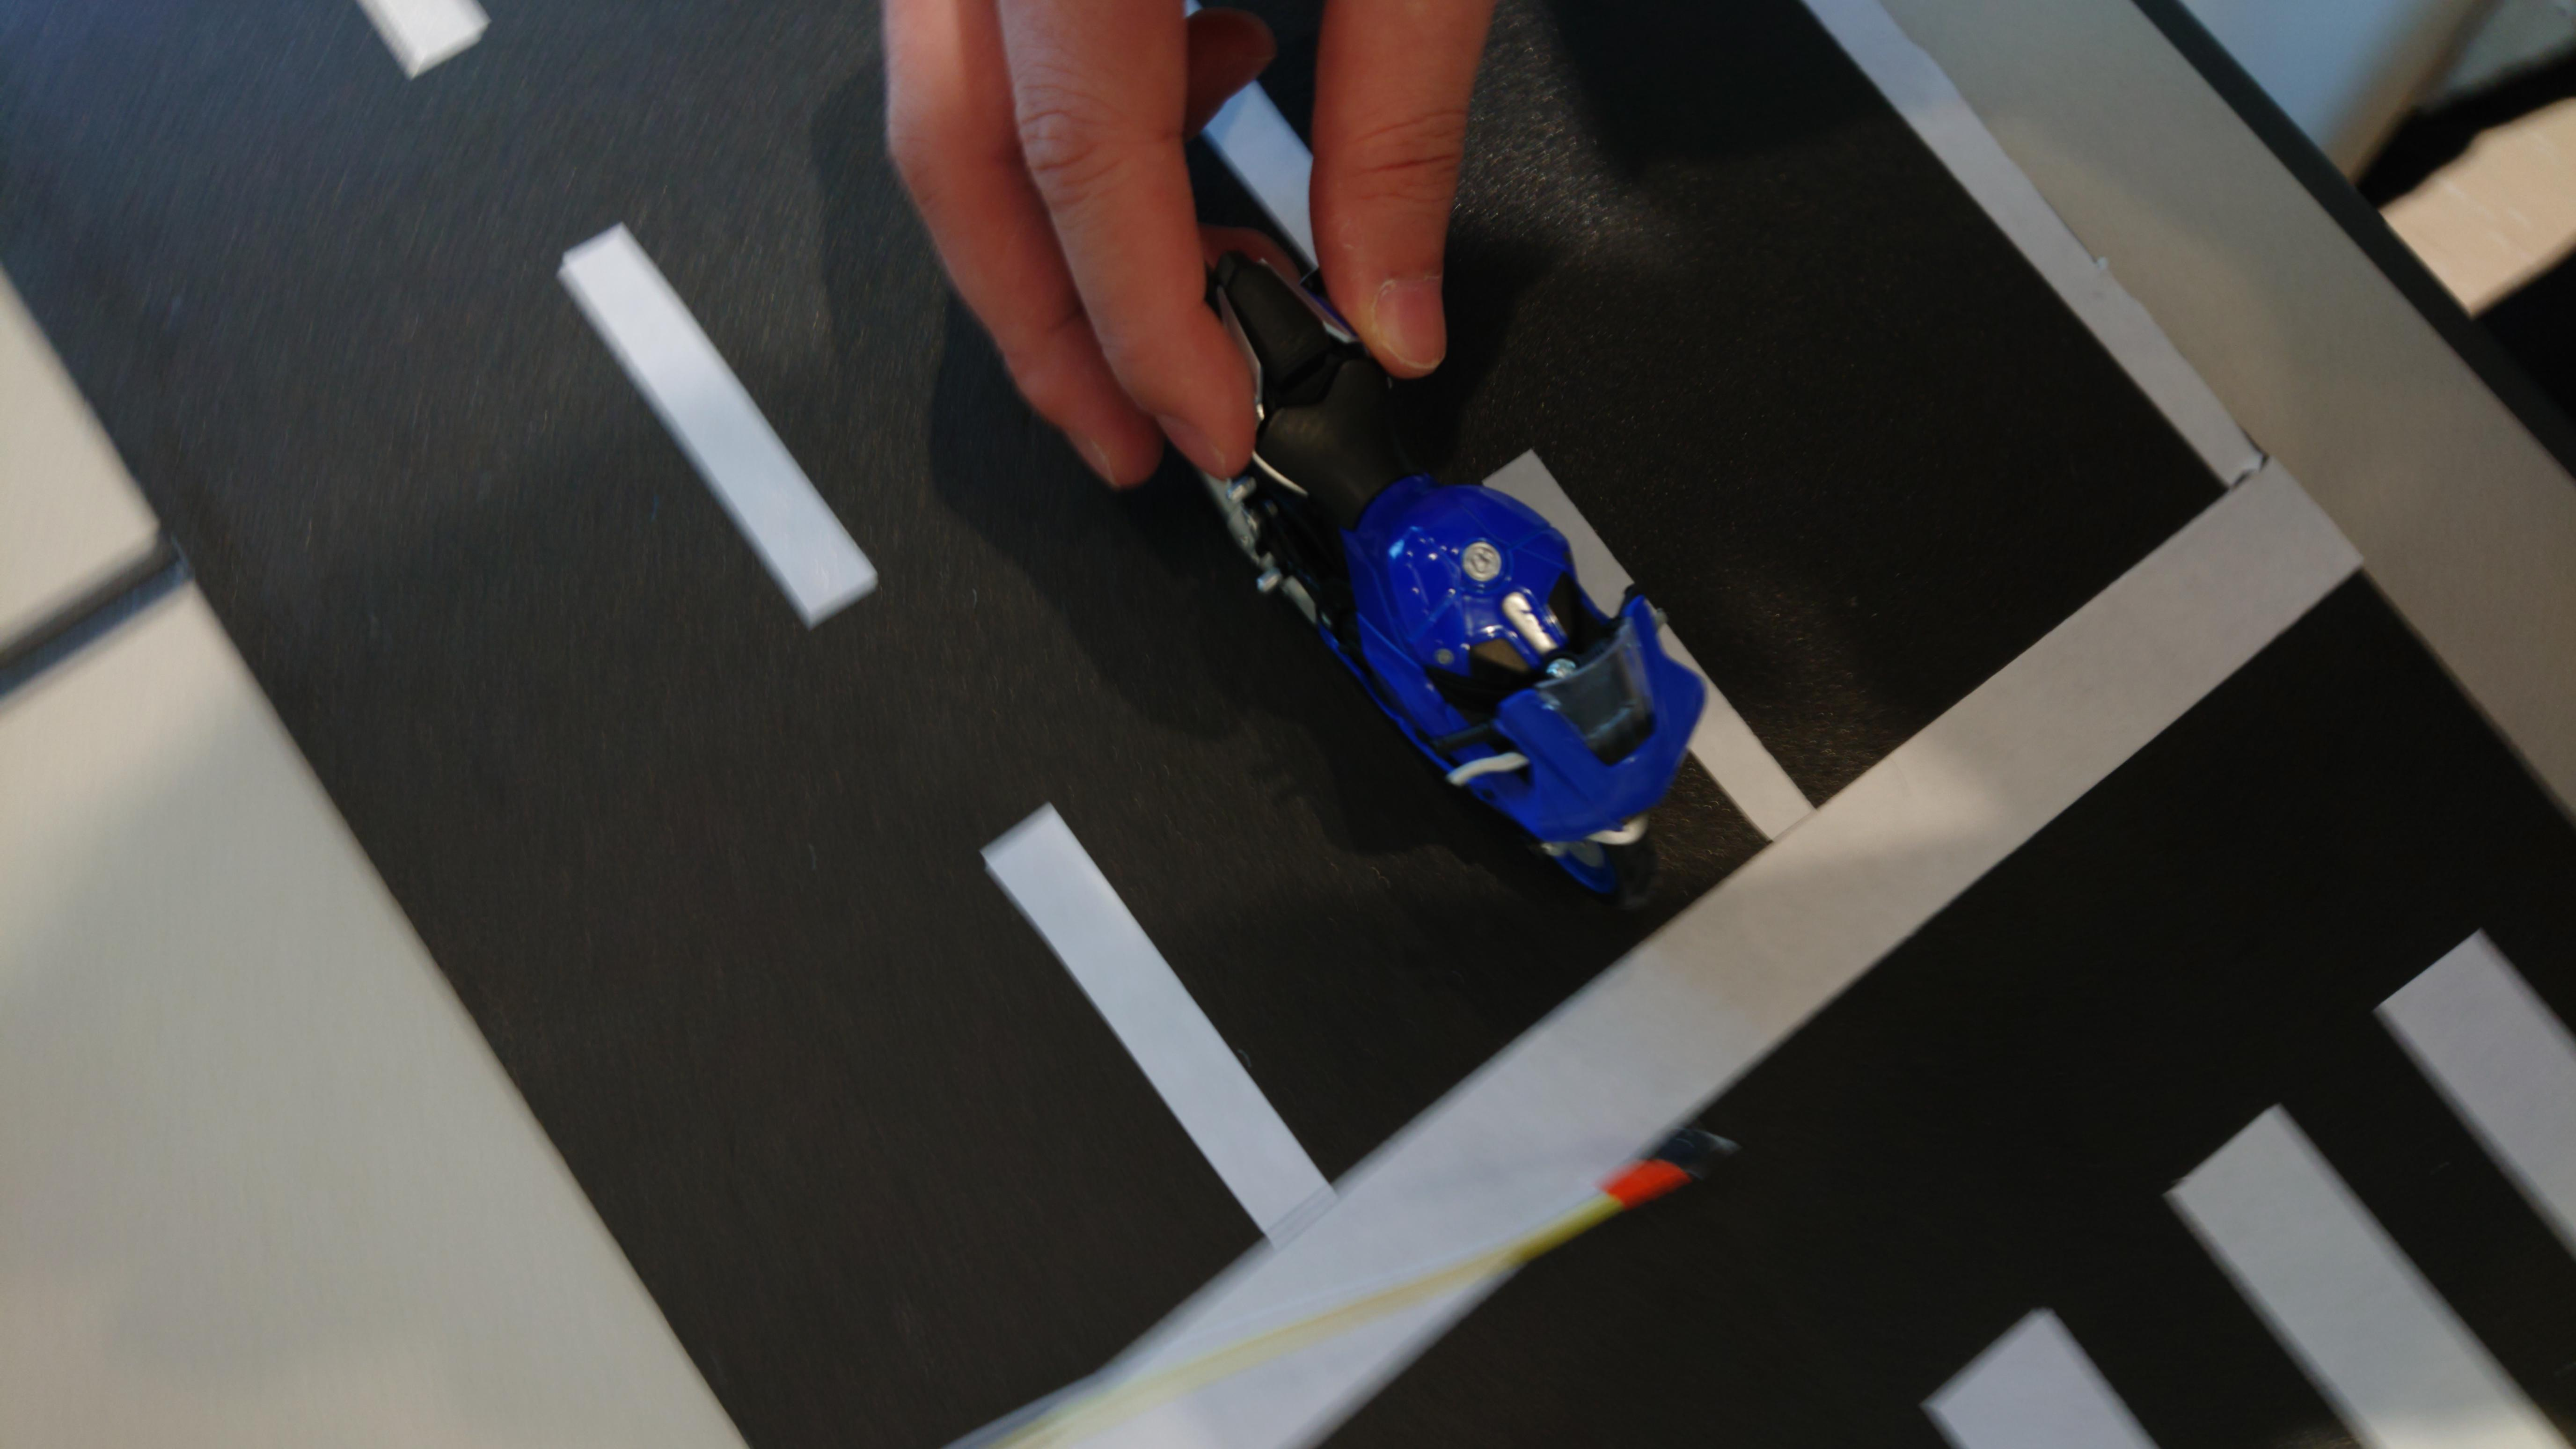Motorcycle: (1152, 180, 1767, 938)
